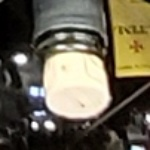bottle: (23, 17, 132, 114)
